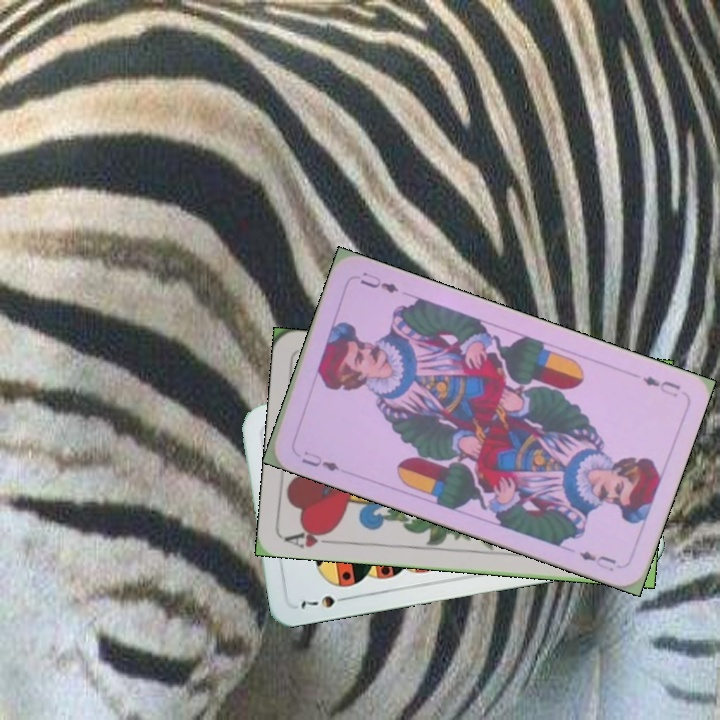EU: (297, 447, 348, 476), (638, 372, 683, 401)
HA: (281, 523, 341, 551)
S7: (297, 591, 353, 612)
